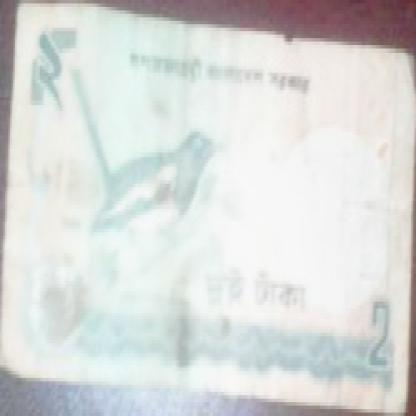two taka: (359, 291, 401, 371), (30, 24, 68, 111)
